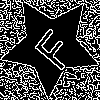F: (25, 20, 79, 74)
